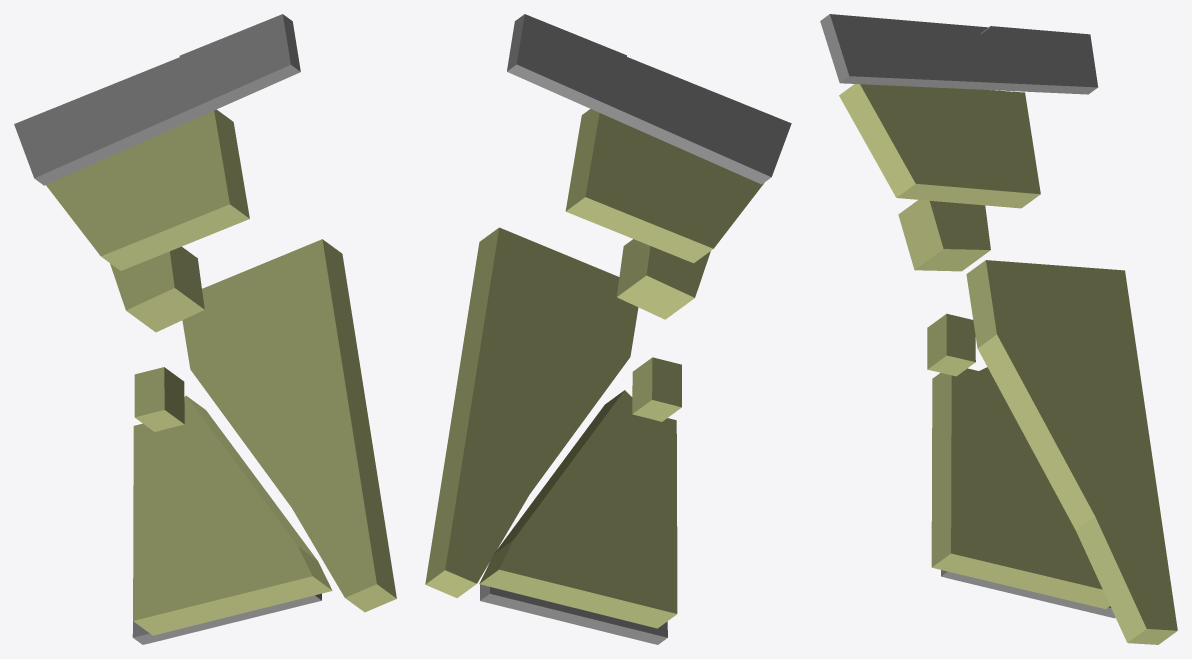
The picture shows the model from 3 angles, left to right: view 1: azimuth 30°, elevation 25°; view 2: azimuth 150°, elevation 25°; view 3: azimuth 330°, elevation 25°; orthographic projection. The views are drawn at different scales.
Visible parts, largest first — view 1: 0_2_2_0_0_0_2_1; view 2: 0_2_2_0_0_0_2_1; view 3: 0_2_2_0_0_0_2_1.
Part boxes in pixels (x1=…): 0_2_2_0_0_0_2_1: x1=14, y1=14, x2=396, y2=644; 0_2_2_0_0_0_2_1: x1=425, y1=14, x2=791, y2=644; 0_2_2_0_0_0_2_1: x1=820, y1=14, x2=1177, y2=644.
Bounding box in the file's own units: 62.46 × 98.73 × 9.09.
